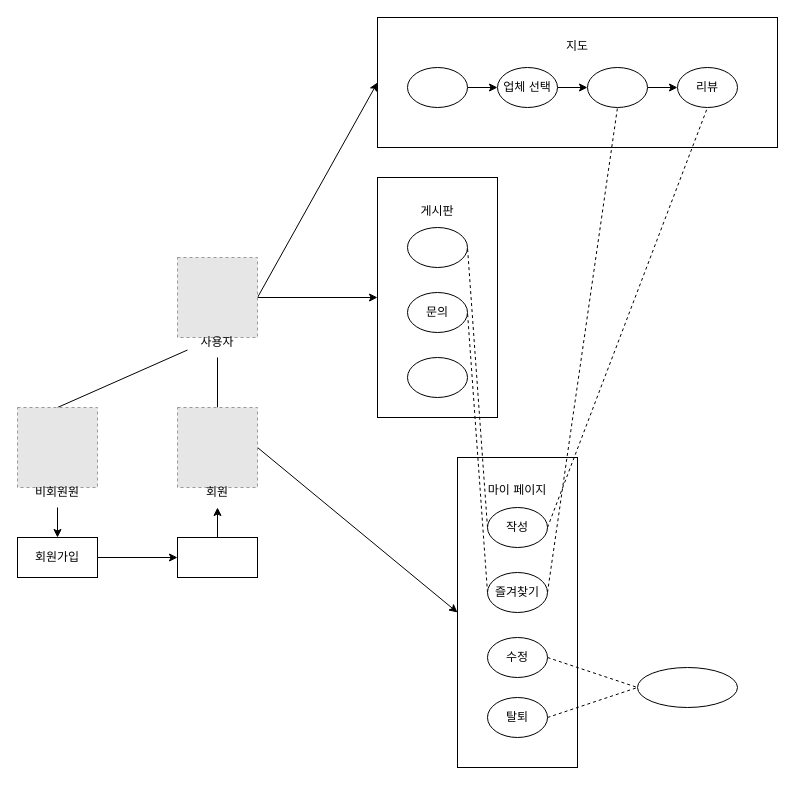
Some shapes in this 795 by 785 pixel diagram are drawn without their labels. Grey dashed boxes stand in for pictures. The centre of each missing label's shape, as x and y in pixels:
"검색" goes at pixel 437 87.
"공지사항" goes at pixel 437 377.
"로그인" goes at pixel 217 557.
"비밀번호확인" goes at pixel 687 687.
"소통" goes at pixel 437 247.
"업체 정보" goes at pixel 617 87.
